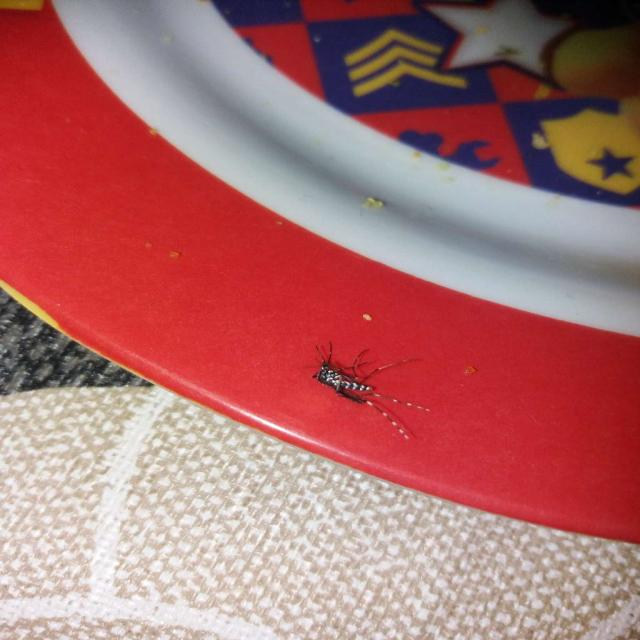albopictus: (299, 333, 431, 443)
